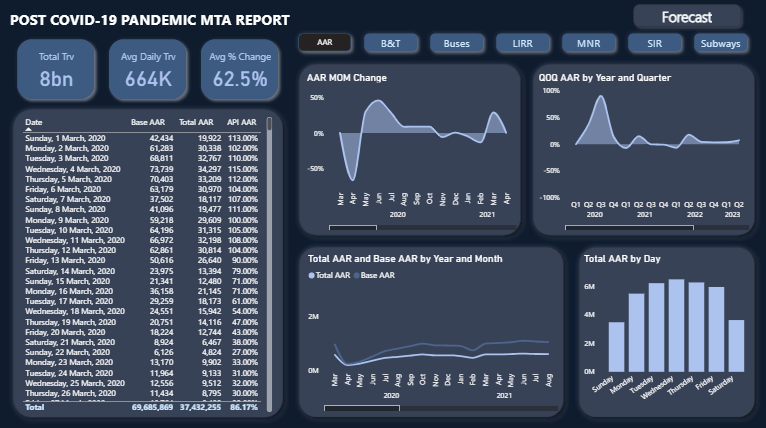

This screenshot's page, from the dashboard's own definition file:
{"tool":"powerbi","page":{"name":"AAR","canvas":[1280,720],"ordinal":0},"visuals":[{"type":"shape","box":[879.6,100.1,389.7,305.7],"z":0},{"type":"shape","box":[956.4,405.8,312.8,303.9],"z":1000},{"type":"shape","box":[489.8,100.1,389.7,305.7],"z":2000},{"type":"shape","box":[489.8,405.8,461.2,303.9],"z":3000},{"type":"shape","box":[12.5,175.2,470.2,534.5],"z":4000},{"type":"areaChart","title":"AAR MOM Change","fields":{"Category":["Date Table.Year","Date Table.Month"],"Y":["Measure Table.MOM AAR"]},"box":[507.7,121.6,359.3,269.9],"z":5000},{"type":"lineChart","fields":{"Y":["Measure Table.Total AAR","Measure Table.Base AAR"],"Category":["Date Table.Year","Date Table.Month"]},"box":[509.5,423.7,427.3,269.9],"z":6000},{"type":"tableEx","fields":{"Values":["Date Table.Date","Measure Table.Base AAR","Measure Table.Total AAR","Measure Table.API AAR"]},"box":[34,193.1,427.3,502.3],"z":7000},{"type":"areaChart","fields":{"Category":["Date Table.Year","Date Table.Quarter"],"Y":["Measure Table.QOQ AAR"]},"box":[895.6,121.6,361.1,269.9],"z":8000},{"type":"clusteredColumnChart","fields":{"Category":["Date Table.Day"],"Y":["Measure Table.Total AAR"]},"box":[970.7,423.7,291.4,269.9],"z":9000},{"type":"shape","box":[1047.6,1.8,196.6,55.4],"z":10000},{"type":"textbox","box":[12.5,12.5,495.2,55.4],"z":11000},{"type":"cardVisual","fields":{"Data":["Measure Table.Total Travel","Measure Table.Average Daily Travel","Measure Table.Average % Change"]},"box":[12.5,51.8,470.2,134.1],"z":12000},{"type":"pageNavigator","box":[489.8,50.1,772.3,48.3],"z":13000}]}

Visuals, with their boxes in screenshot pixels (x1, y1, x2, y2), scaled from the page's 1280x720 canvas onto the 766x428 screenshot:
shape: 526, 60, 760, 241
shape: 572, 241, 760, 422
shape: 293, 60, 526, 241
shape: 293, 241, 569, 422
shape: 7, 104, 289, 422
"AAR MOM Change" areaChart: 304, 72, 519, 233
lineChart - Measure Table.Total AAR x Measure Table.Base AAR: 305, 252, 561, 412
tableEx - Date Table.Date x Measure Table.Base AAR: 20, 115, 276, 413
areaChart - Date Table.Year x Date Table.Quarter: 536, 72, 752, 233
clusteredColumnChart - Date Table.Day x Measure Table.Total AAR: 581, 252, 755, 412
shape: 627, 1, 745, 34
textbox: 7, 7, 304, 40
cardVisual - Measure Table.Total Travel x Measure Table.Average Daily Travel: 7, 31, 289, 111
pageNavigator: 293, 30, 755, 58
